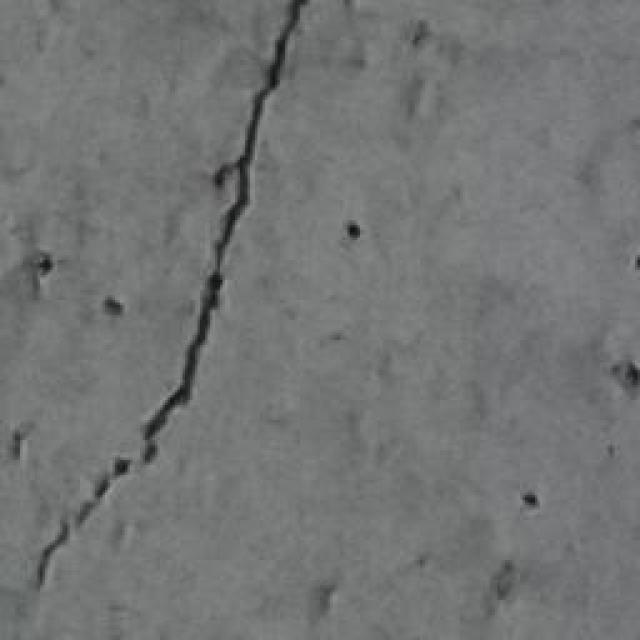Diagonal: (30, 0, 307, 597)
